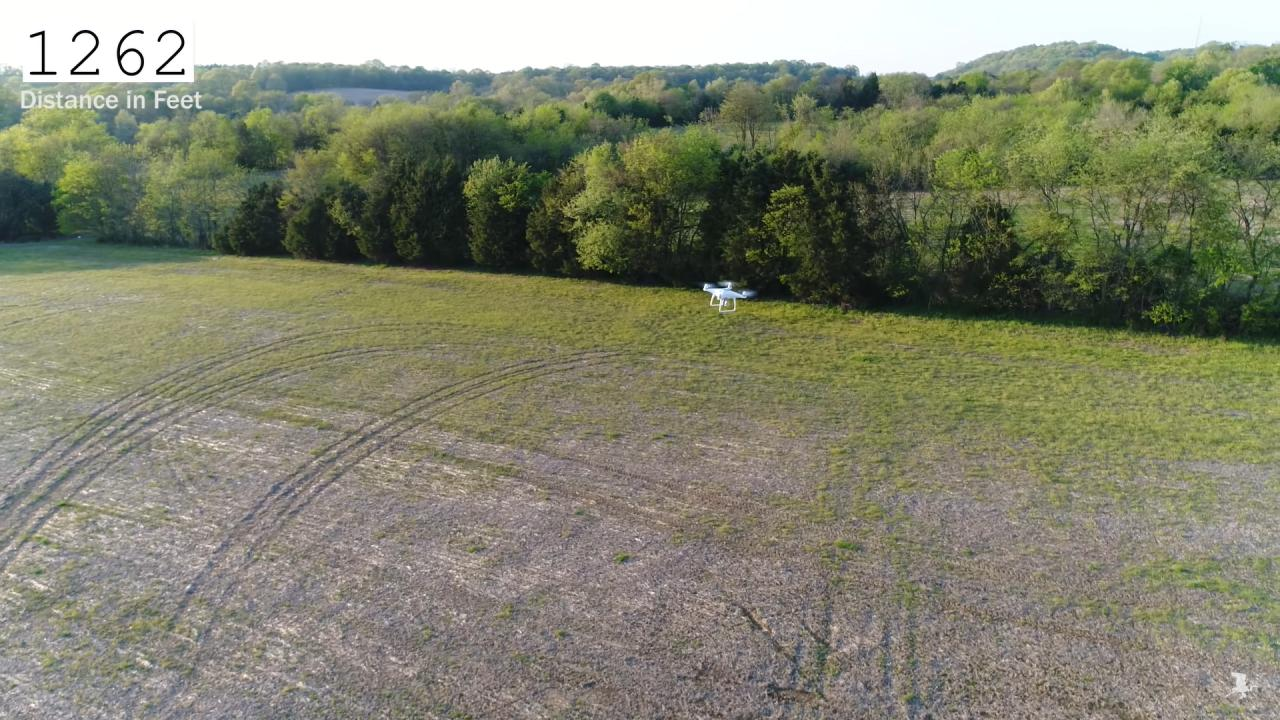Drone: (692, 265, 763, 319)
